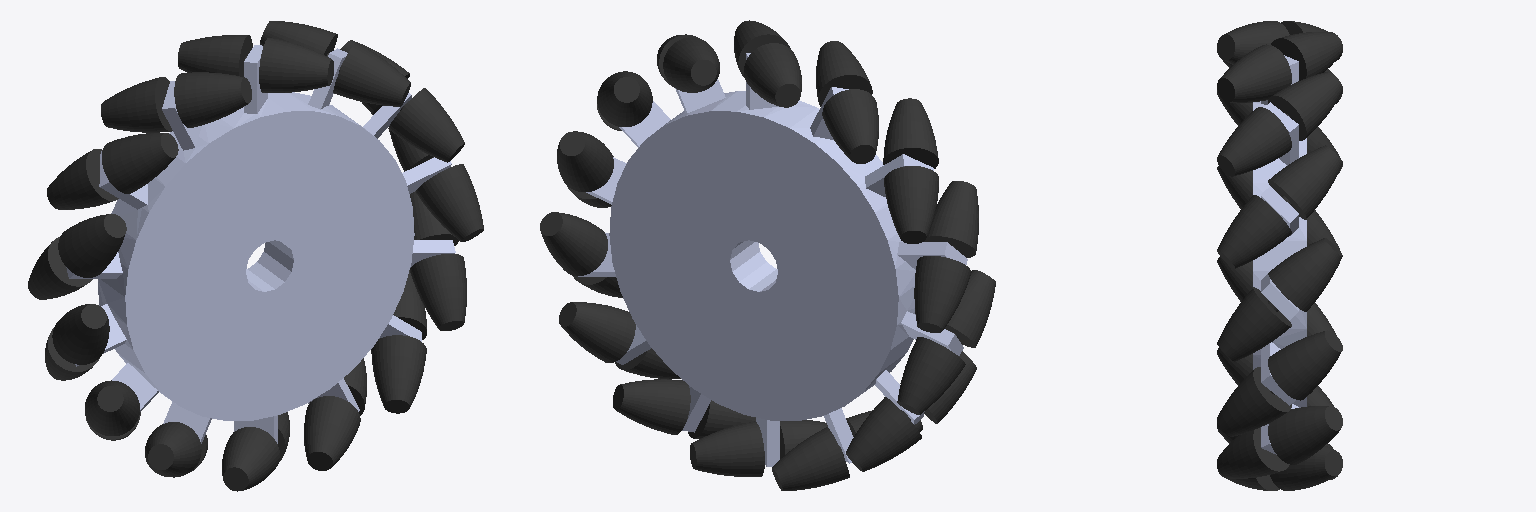
robot.urdf — left_mecanum_wheel:
<?xml version="1.0" encoding="utf-8"?>
<!-- This URDF was automatically created by SolidWorks to URDF Exporter! Originally created by [author] ([email redacted]) 
     Commit Version: 1.6.0-4-g7f85cfe  Build Version: 1.6.7995.38578
     For more information, please see http://wiki.ros.org/sw_urdf_exporter -->
<robot
  name="left_mecanum_wheel">
  <link
    name="base_link">
    <inertial>
      <origin
        xyz="-1.38777878078145E-17 -0.0127 -2.08166817117217E-17"
        rpy="0 0 0" />
      <mass
        value="0.49085057336667" />
      <inertia
        ixx="0.000855919788869549"
        ixy="7.02751486780771E-18"
        ixz="-1.76242646778707E-13"
        iyy="0.00166196578431783"
        iyz="-4.73074206632684E-17"
        izz="0.000855919788789097" />
    </inertial>
    <visual>
      <origin
        xyz="0 0 0"
        rpy="0 0 0" />
      <geometry>
        <mesh
          filename="package://left_mecanum_wheel/meshes/base_link.STL" />
      </geometry>
      <material
        name="">
        <color
          rgba="0.792156862745098 0.819607843137255 0.933333333333333 1" />
      </material>
    </visual>
    <collision>
      <origin
        xyz="0 0 0"
        rpy="0 0 0" />
      <geometry>
        <mesh
          filename="package://left_mecanum_wheel/meshes/base_link.STL" />
      </geometry>
    </collision>
  </link>
  <link
    name="LR1">
    <inertial>
      <origin
        xyz="0 -3.1919E-16 0"
        rpy="0 0 0" />
      <mass
        value="0.021119" />
      <inertia
        ixx="8.013E-06"
        ixy="-1.2705E-21"
        ixz="-2.7276E-23"
        iyy="1.2724E-06"
        iyz="-1.1012E-22"
        izz="8.013E-06" />
    </inertial>
    <visual>
      <origin
        xyz="0 0 0"
        rpy="0 0 0" />
      <geometry>
        <mesh
          filename="package://left_mecanum_wheel/meshes/LR1.STL" />
      </geometry>
      <material
        name="">
        <color
          rgba="0.25098 0.25098 0.25098 1" />
      </material>
    </visual>
    <collision>
      <origin
        xyz="0 0 0"
        rpy="0 0 0" />
      <geometry>
        <mesh
          filename="package://left_mecanum_wheel/meshes/LR1.STL" />
      </geometry>
    </collision>
  </link>
  <joint
    name="LR1_joint"
    type="continuous">
    <origin
      xyz="0.075462 -0.0127 -0.060179"
      rpy="2.4162 0.58577 2.1283" />
    <parent
      link="base_link" />
    <child
      link="LR1" />
    <axis
      xyz="0 -1 0" />
  </joint>
  <link
    name="LR2">
    <inertial>
      <origin
        xyz="-1.3878E-17 -3.3307E-16 -1.3878E-17"
        rpy="0 0 0" />
      <mass
        value="0.021119" />
      <inertia
        ixx="8.013E-06"
        ixy="-1.5352E-21"
        ixz="4.3636E-22"
        iyy="1.2724E-06"
        iyz="5.9518E-22"
        izz="8.013E-06" />
    </inertial>
    <visual>
      <origin
        xyz="0 0 0"
        rpy="0 0 0" />
      <geometry>
        <mesh
          filename="package://left_mecanum_wheel/meshes/LR2.STL" />
      </geometry>
      <material
        name="">
        <color
          rgba="0.25098 0.25098 0.25098 1" />
      </material>
    </visual>
    <collision>
      <origin
        xyz="0 0 0"
        rpy="0 0 0" />
      <geometry>
        <mesh
          filename="package://left_mecanum_wheel/meshes/LR2.STL" />
      </geometry>
    </collision>
  </link>
  <joint
    name="LR2_joint"
    type="continuous">
    <origin
      xyz="0.041878 -0.0127 -0.086962"
      rpy="2.8134 0.31183 2.3041" />
    <parent
      link="base_link" />
    <child
      link="LR2" />
    <axis
      xyz="0 -1 0" />
  </joint>
  <link
    name="LR3">
    <inertial>
      <origin
        xyz="6.9389E-18 -4.8572E-16 -1.3878E-17"
        rpy="0 0 0" />
      <mass
        value="0.021119" />
      <inertia
        ixx="8.013E-06"
        ixy="-5.294E-22"
        ixz="-5.5257E-22"
        iyy="1.2724E-06"
        iyz="-1.4125E-21"
        izz="8.013E-06" />
    </inertial>
    <visual>
      <origin
        xyz="0 0 0"
        rpy="0 0 0" />
      <geometry>
        <mesh
          filename="package://left_mecanum_wheel/meshes/LR3.STL" />
      </geometry>
      <material
        name="">
        <color
          rgba="0.25098 0.25098 0.25098 1" />
      </material>
    </visual>
    <collision>
      <origin
        xyz="0 0 0"
        rpy="0 0 0" />
      <geometry>
        <mesh
          filename="package://left_mecanum_wheel/meshes/LR3.STL" />
      </geometry>
    </collision>
  </link>
  <joint
    name="LR3_joint"
    type="continuous">
    <origin
      xyz="0 -0.0127 -0.09652"
      rpy="3.1416 0 2.3562" />
    <parent
      link="base_link" />
    <child
      link="LR3" />
    <axis
      xyz="0 -1 0" />
  </joint>
  <link
    name="LR4">
    <inertial>
      <origin
        xyz="0 -4.57966997657877E-16 -1.38777878078145E-17"
        rpy="0 0 0" />
      <mass
        value="0.0211185318668682" />
      <inertia
        ixx="8.01298624970931E-06"
        ixy="4.2351647362715E-22"
        ixz="-8.77131336323982E-23"
        iyy="1.2723849343581E-06"
        iyz="-1.19944387690366E-21"
        izz="8.01298624970931E-06" />
    </inertial>
    <visual>
      <origin
        xyz="0 0 0"
        rpy="0 0 0" />
      <geometry>
        <mesh
          filename="package://left_mecanum_wheel/meshes/LR4.STL" />
      </geometry>
      <material
        name="">
        <color
          rgba="0.250980392156863 0.250980392156863 0.250980392156863 1" />
      </material>
    </visual>
    <collision>
      <origin
        xyz="0 0 0"
        rpy="0 0 0" />
      <geometry>
        <mesh
          filename="package://left_mecanum_wheel/meshes/LR4.STL" />
      </geometry>
    </collision>
  </link>
  <joint
    name="LR4_joint"
    type="continuous">
    <origin
      xyz="-0.041878 -0.0127 -0.086962"
      rpy="-2.8134 -0.31183 2.3041" />
    <parent
      link="base_link" />
    <child
      link="LR4" />
    <axis
      xyz="0 -1 0" />
  </joint>
  <link
    name="LR5">
    <inertial>
      <origin
        xyz="0 -2.91433543964104E-16 1.38777878078145E-17"
        rpy="0 0 0" />
      <mass
        value="0.0211185318668681" />
      <inertia
        ixx="8.01298624970889E-06"
        ixy="-5.29395592033938E-22"
        ixz="3.55071276526109E-22"
        iyy="1.27238493435815E-06"
        iyz="-2.27074809679911E-24"
        izz="8.01298624970889E-06" />
    </inertial>
    <visual>
      <origin
        xyz="0 0 0"
        rpy="0 0 0" />
      <geometry>
        <mesh
          filename="package://left_mecanum_wheel/meshes/LR5.STL" />
      </geometry>
      <material
        name="">
        <color
          rgba="0.250980392156863 0.250980392156863 0.250980392156863 1" />
      </material>
    </visual>
    <collision>
      <origin
        xyz="0 0 0"
        rpy="0 0 0" />
      <geometry>
        <mesh
          filename="package://left_mecanum_wheel/meshes/LR5.STL" />
      </geometry>
    </collision>
  </link>
  <joint
    name="LR5_joint"
    type="continuous">
    <origin
      xyz="-0.075462 -0.0127 -0.060179"
      rpy="-2.4162 -0.58577 2.1283" />
    <parent
      link="base_link" />
    <child
      link="LR5" />
    <axis
      xyz="0 -1 0" />
  </joint>
  <link
    name="LR6">
    <inertial>
      <origin
        xyz="1.38777878078145E-17 -2.77555756156289E-16 0"
        rpy="0 0 0" />
      <mass
        value="0.0211185318668681" />
      <inertia
        ixx="8.01298624970912E-06"
        ixy="-3.17637355220363E-22"
        ixz="8.59878238275205E-22"
        iyy="1.27238493435815E-06"
        iyz="-3.0479206419946E-22"
        izz="8.01298624970912E-06" />
    </inertial>
    <visual>
      <origin
        xyz="0 0 0"
        rpy="0 0 0" />
      <geometry>
        <mesh
          filename="package://left_mecanum_wheel/meshes/LR6.STL" />
      </geometry>
      <material
        name="">
        <color
          rgba="0.250980392156863 0.250980392156863 0.250980392156863 1" />
      </material>
    </visual>
    <collision>
      <origin
        xyz="0 0 0"
        rpy="0 0 0" />
      <geometry>
        <mesh
          filename="package://left_mecanum_wheel/meshes/LR6.STL" />
      </geometry>
    </collision>
  </link>
  <joint
    name="LR6_joint"
    type="continuous">
    <origin
      xyz="-0.0941 -0.0127 -0.021478"
      rpy="-1.883 -0.76063 1.7897" />
    <parent
      link="base_link" />
    <child
      link="LR6" />
    <axis
      xyz="0 -1 0" />
  </joint>
  <link
    name="LR7">
    <inertial>
      <origin
        xyz="-2.77555756156289E-17 -4.85722573273506E-16 -2.77555756156289E-17"
        rpy="0 0 0" />
      <mass
        value="0.0211185318668683" />
      <inertia
        ixx="8.01298624970969E-06"
        ixy="-3.70576914423756E-22"
        ixz="3.9782589158534E-22"
        iyy="1.27238493435898E-06"
        iyz="-1.58740757854192E-21"
        izz="8.01298624970969E-06" />
    </inertial>
    <visual>
      <origin
        xyz="0 0 0"
        rpy="0 0 0" />
      <geometry>
        <mesh
          filename="package://left_mecanum_wheel/meshes/LR7.STL" />
      </geometry>
      <material
        name="">
        <color
          rgba="0.250980392156863 0.250980392156863 0.250980392156863 1" />
      </material>
    </visual>
    <collision>
      <origin
        xyz="0 0 0"
        rpy="0 0 0" />
      <geometry>
        <mesh
          filename="package://left_mecanum_wheel/meshes/LR7.STL" />
      </geometry>
    </collision>
  </link>
  <joint
    name="LR7_joint"
    type="continuous">
    <origin
      xyz="-0.0941 -0.0127 0.021478"
      rpy="-1.2586 -0.76063 1.3518" />
    <parent
      link="base_link" />
    <child
      link="LR7" />
    <axis
      xyz="0 -1 0" />
  </joint>
  <link
    name="LR8">
    <inertial>
      <origin
        xyz="4.85722573273506E-16 -7.97972798949331E-16 -1.38777878078145E-17"
        rpy="0 0 0" />
      <mass
        value="0.0211185318668682" />
      <inertia
        ixx="8.01298624970942E-06"
        ixy="4.2351647362715E-22"
        ixz="3.41400312120472E-23"
        iyy="1.27238493435842E-06"
        iyz="-3.36878705845167E-20"
        izz="8.01298624970942E-06" />
    </inertial>
    <visual>
      <origin
        xyz="0 0 0"
        rpy="0 0 0" />
      <geometry>
        <mesh
          filename="package://left_mecanum_wheel/meshes/LR8.STL" />
      </geometry>
      <material
        name="">
        <color
          rgba="0.250980392156863 0.250980392156863 0.250980392156863 1" />
      </material>
    </visual>
    <collision>
      <origin
        xyz="0 0 0"
        rpy="0 0 0" />
      <geometry>
        <mesh
          filename="package://left_mecanum_wheel/meshes/LR8.STL" />
      </geometry>
    </collision>
  </link>
  <joint
    name="LR8_joint"
    type="continuous">
    <origin
      xyz="-0.075462 -0.0127 0.060179"
      rpy="-0.72541 -0.58577 1.0133" />
    <parent
      link="base_link" />
    <child
      link="LR8" />
    <axis
      xyz="0 -1 0" />
  </joint>
  <link
    name="LR9">
    <inertial>
      <origin
        xyz="-1.38777878078145E-17 -4.9960036108132E-16 0"
        rpy="0 0 0" />
      <mass
        value="0.0211185318668681" />
      <inertia
        ixx="8.01298624970774E-06"
        ixy="-5.29395592033938E-22"
        ixz="1.86067654771765E-22"
        iyy="1.27238493435518E-06"
        iyz="-1.24330044371986E-21"
        izz="8.01298624970774E-06" />
    </inertial>
    <visual>
      <origin
        xyz="0 0 0"
        rpy="0 0 0" />
      <geometry>
        <mesh
          filename="package://left_mecanum_wheel/meshes/LR9.STL" />
      </geometry>
      <material
        name="">
        <color
          rgba="0.250980392156863 0.250980392156863 0.250980392156863 1" />
      </material>
    </visual>
    <collision>
      <origin
        xyz="0 0 0"
        rpy="0 0 0" />
      <geometry>
        <mesh
          filename="package://left_mecanum_wheel/meshes/LR9.STL" />
      </geometry>
    </collision>
  </link>
  <joint
    name="LR9_joint"
    type="continuous">
    <origin
      xyz="-0.041878 -0.0127 0.086962"
      rpy="-0.32821 -0.31183 0.83745" />
    <parent
      link="base_link" />
    <child
      link="LR9" />
    <axis
      xyz="0 -1 0" />
  </joint>
  <link
    name="LR10">
    <inertial>
      <origin
        xyz="0 -4.71844785465692E-16 -4.16333634234434E-17"
        rpy="0 0 0" />
      <mass
        value="0.0211185318668682" />
      <inertia
        ixx="8.01298624970931E-06"
        ixy="-7.94093388050907E-22"
        ixz="2.99471370445973E-22"
        iyy="1.27238493435809E-06"
        iyz="9.87685640090089E-22"
        izz="8.01298624970931E-06" />
    </inertial>
    <visual>
      <origin
        xyz="0 0 0"
        rpy="0 0 0" />
      <geometry>
        <mesh
          filename="package://left_mecanum_wheel/meshes/LR10.STL" />
      </geometry>
      <material
        name="">
        <color
          rgba="0.250980392156863 0.250980392156863 0.250980392156863 1" />
      </material>
    </visual>
    <collision>
      <origin
        xyz="0 0 0"
        rpy="0 0 0" />
      <geometry>
        <mesh
          filename="package://left_mecanum_wheel/meshes/LR10.STL" />
      </geometry>
    </collision>
  </link>
  <joint
    name="LR10_joint"
    type="continuous">
    <origin
      xyz="0 -0.0127 0.09652"
      rpy="0 0 0.7854" />
    <parent
      link="base_link" />
    <child
      link="LR10" />
    <axis
      xyz="0 -1 0" />
  </joint>
  <link
    name="LR11">
    <inertial>
      <origin
        xyz="1.38777878078145E-17 -3.19189119579733E-16 2.77555756156289E-17"
        rpy="0 0 0" />
      <mass
        value="0.0211185318668683" />
      <inertia
        ixx="8.01298624970976E-06"
        ixy="-7.41153828847513E-22"
        ixz="-1.74324315507828E-22"
        iyy="1.272384934359E-06"
        iyz="2.49192158119321E-22"
        izz="8.01298624970976E-06" />
    </inertial>
    <visual>
      <origin
        xyz="0 0 0"
        rpy="0 0 0" />
      <geometry>
        <mesh
          filename="package://left_mecanum_wheel/meshes/LR11.STL" />
      </geometry>
      <material
        name="">
        <color
          rgba="0.250980392156863 0.250980392156863 0.250980392156863 1" />
      </material>
    </visual>
    <collision>
      <origin
        xyz="0 0 0"
        rpy="0 0 0" />
      <geometry>
        <mesh
          filename="package://left_mecanum_wheel/meshes/LR11.STL" />
      </geometry>
    </collision>
  </link>
  <joint
    name="LR11_joint"
    type="continuous">
    <origin
      xyz="0.041878 -0.0127 0.086962"
      rpy="0.32821 0.31183 0.83745" />
    <parent
      link="base_link" />
    <child
      link="LR11" />
    <axis
      xyz="0 -1 0" />
  </joint>
  <link
    name="LR12">
    <inertial>
      <origin
        xyz="-1.38777878078145E-17 -3.05311331771918E-16 -1.38777878078145E-17"
        rpy="0 0 0" />
      <mass
        value="0.0211185318668683" />
      <inertia
        ixx="8.01298624971091E-06"
        ixy="8.99972506457694E-22"
        ixz="2.49192158119322E-22"
        iyy="1.27238493436106E-06"
        iyz="-5.52103073001929E-23"
        izz="8.01298624971091E-06" />
    </inertial>
    <visual>
      <origin
        xyz="0 0 0"
        rpy="0 0 0" />
      <geometry>
        <mesh
          filename="package://left_mecanum_wheel/meshes/LR12.STL" />
      </geometry>
      <material
        name="">
        <color
          rgba="0.250980392156863 0.250980392156863 0.250980392156863 1" />
      </material>
    </visual>
    <collision>
      <origin
        xyz="0 0 0"
        rpy="0 0 0" />
      <geometry>
        <mesh
          filename="package://left_mecanum_wheel/meshes/LR12.STL" />
      </geometry>
    </collision>
  </link>
  <joint
    name="LR12_joint"
    type="continuous">
    <origin
      xyz="0.075462 -0.0127 0.060179"
      rpy="0.72541 0.58577 1.0133" />
    <parent
      link="base_link" />
    <child
      link="LR12" />
    <axis
      xyz="0 -1 0" />
  </joint>
  <link
    name="LR13">
    <inertial>
      <origin
        xyz="0 -4.85722573273506E-16 0"
        rpy="0 0 0" />
      <mass
        value="0.0211185318668681" />
      <inertia
        ixx="8.01298624970981E-06"
        ixy="-8.99972506457694E-22"
        ixz="6.35274710440725E-22"
        iyy="1.27238493435909E-06"
        iyz="-7.41153828847513E-22"
        izz="8.01298624970981E-06" />
    </inertial>
    <visual>
      <origin
        xyz="0 0 0"
        rpy="0 0 0" />
      <geometry>
        <mesh
          filename="package://left_mecanum_wheel/meshes/LR13.STL" />
      </geometry>
      <material
        name="">
        <color
          rgba="0.250980392156863 0.250980392156863 0.250980392156863 1" />
      </material>
    </visual>
    <collision>
      <origin
        xyz="0 0 0"
        rpy="0 0 0" />
      <geometry>
        <mesh
          filename="package://left_mecanum_wheel/meshes/LR13.STL" />
      </geometry>
    </collision>
  </link>
  <joint
    name="LR13_joint"
    type="continuous">
    <origin
      xyz="0.0941 -0.0127 0.021478"
      rpy="1.2586 0.76063 1.3518" />
    <parent
      link="base_link" />
    <child
      link="LR13" />
    <axis
      xyz="0 -1 0" />
  </joint>
  <link
    name="LR14">
    <inertial>
      <origin
        xyz="-1.38777878078145E-17 -4.71844785465692E-16 -2.77555756156289E-17"
        rpy="0 0 0" />
      <mass
        value="0.0211185318668681" />
      <inertia
        ixx="8.0129862497077E-06"
        ixy="-8.99972506457694E-22"
        ixz="-1.49735685222987E-22"
        iyy="1.27238493435488E-06"
        iyz="-9.96768632477285E-22"
        izz="8.01298624970771E-06" />
    </inertial>
    <visual>
      <origin
        xyz="0 0 0"
        rpy="0 0 0" />
      <geometry>
        <mesh
          filename="package://left_mecanum_wheel/meshes/LR14.STL" />
      </geometry>
      <material
        name="">
        <color
          rgba="0.250980392156863 0.250980392156863 0.250980392156863 1" />
      </material>
    </visual>
    <collision>
      <origin
        xyz="0 0 0"
        rpy="0 0 0" />
      <geometry>
        <mesh
          filename="package://left_mecanum_wheel/meshes/LR14.STL" />
      </geometry>
    </collision>
  </link>
  <joint
    name="LR14_Joint"
    type="continuous">
    <origin
      xyz="0.0941 -0.0127 -0.021478"
      rpy="1.883 0.76063 1.7897" />
    <parent
      link="base_link" />
    <child
      link="LR14" />
    <axis
      xyz="0 -1 0" />
  </joint>
</robot>

--- Render facts (derived) ---
3 views of the same robot in one strip: view 1: azimuth 30°, elevation 25°; view 2: azimuth 150°, elevation 25°; view 3: azimuth 270°, elevation 25° (orthographic).
Model left_mecanum_wheel with 15 links and 14 joints (14 continuous), rooted at base_link, posed all joints at 0.
Visible links, largest first — view 1: base_link, LR9, LR8, LR10, LR7, LR11, LR1, LR14, LR13, LR2, LR6, LR12 (+3 smaller); view 2: base_link, LR7, LR8, LR6, LR9, LR2, LR5, LR1, LR3, LR10, LR14, LR4 (+3 smaller); view 3: base_link, LR12, LR13, LR14, LR11, LR1, LR10, LR2, LR9, LR5, LR6, LR4 (+1 smaller).
Link boxes in pixels (x1,y1,x2,y2): base_link: [66, 45, 455, 443]; LR9: [101, 72, 251, 132]; LR8: [47, 133, 178, 209]; LR10: [178, 35, 333, 92]; LR7: [28, 214, 126, 299]; LR11: [260, 21, 410, 106]; LR1: [371, 270, 426, 413]; LR14: [410, 191, 466, 330]; LR13: [389, 130, 483, 241]; LR2: [304, 358, 366, 470]; LR6: [45, 304, 109, 380]; LR12: [340, 40, 464, 162]; base_link: [578, 53, 967, 466]; LR7: [914, 181, 978, 332]; LR8: [883, 98, 938, 243]; LR6: [897, 270, 995, 414]; LR9: [816, 41, 878, 163]; LR2: [613, 379, 755, 438]; LR5: [846, 351, 976, 471]; LR1: [559, 302, 680, 378]; LR3: [690, 420, 827, 476]; LR10: [734, 20, 801, 107]; LR14: [540, 212, 622, 297]; LR4: [772, 410, 922, 490]; base_link: [1253, 55, 1306, 454]; LR12: [1217, 145, 1342, 268]; LR13: [1217, 238, 1342, 361]; LR14: [1217, 330, 1342, 436]; LR11: [1217, 72, 1342, 176]; LR1: [1217, 406, 1342, 478]; LR10: [1217, 32, 1342, 102]; LR2: [1217, 446, 1342, 490]; LR9: [1217, 21, 1342, 64]; LR5: [1217, 256, 1336, 336]; LR6: [1217, 166, 1340, 251]; LR4: [1217, 348, 1340, 435].
Size in the robot's own frame: 0.2159 by 0.0584 by 0.2184 metres.
Meshes: 15 distinct files referenced, 15 mesh visuals loaded (15 binary STL).